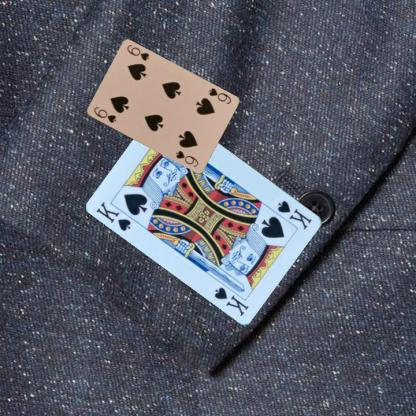6s: (91, 104, 117, 124), (206, 86, 232, 105)
Ks: (275, 198, 314, 231), (94, 199, 133, 232)
